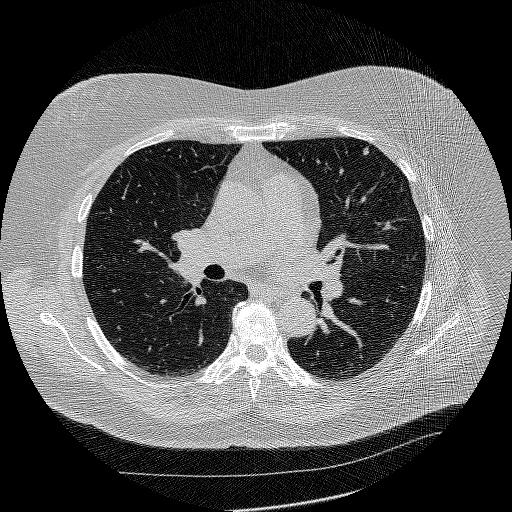nodule: (360, 145, 372, 157)
